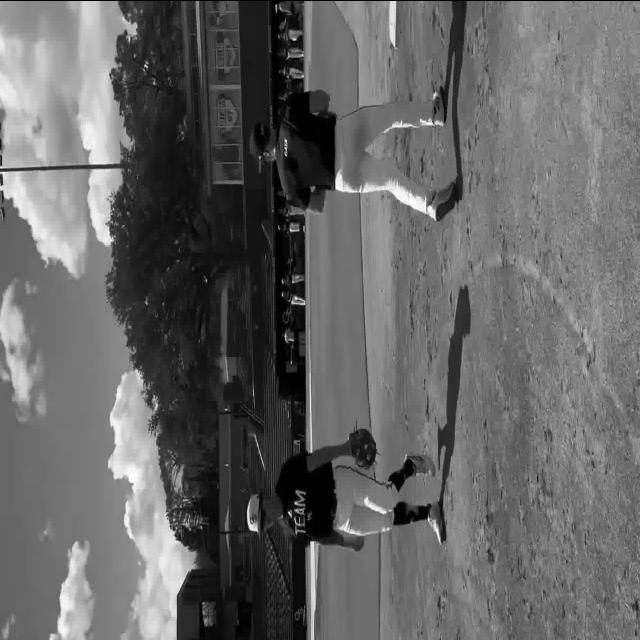base: (389, 0, 400, 47)
baseball_glove: (349, 427, 378, 469)
shoe: (428, 180, 458, 220), (428, 500, 446, 542), (405, 451, 435, 476), (432, 84, 446, 127)
